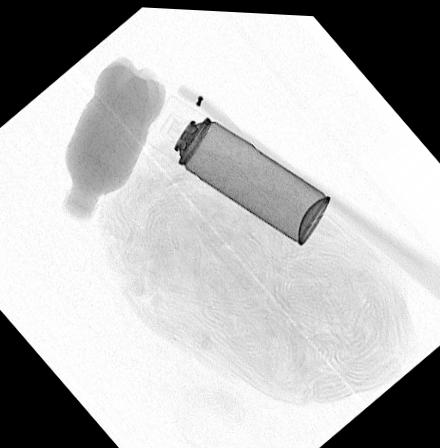Sprayer: (145, 89, 331, 242)
